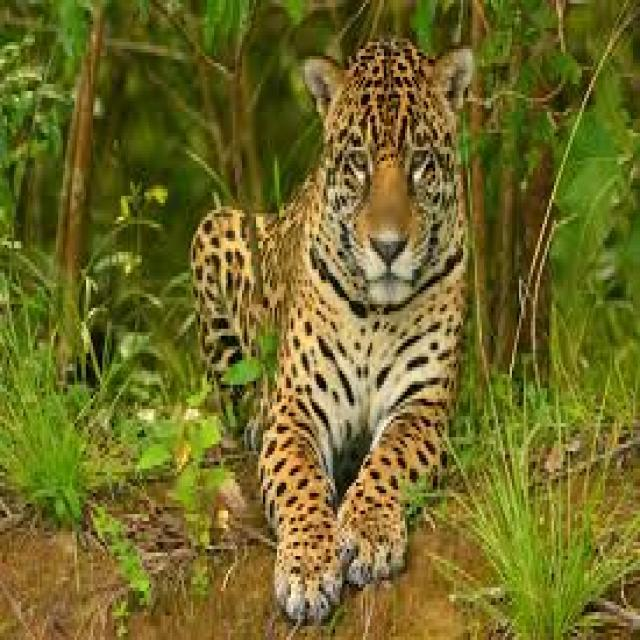Jaguar: (186, 35, 477, 626)
